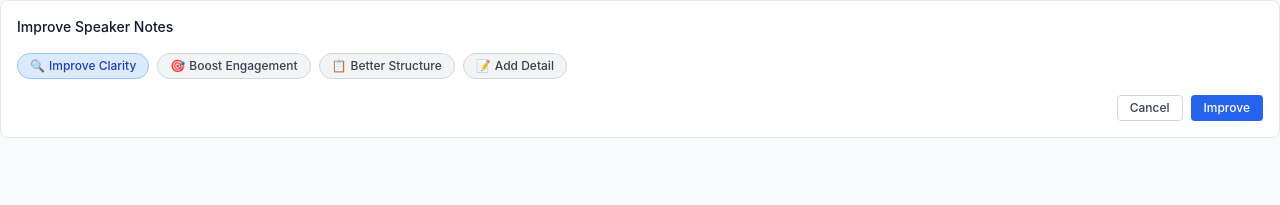
CompactSpeakerNotesImprover › Compact Interface › shows error message in compact format
What coordinates should you click on to do the following:
click the button "Improve"
I would click on:
 (1227, 108)
Its box is [1190, 95, 1263, 121].
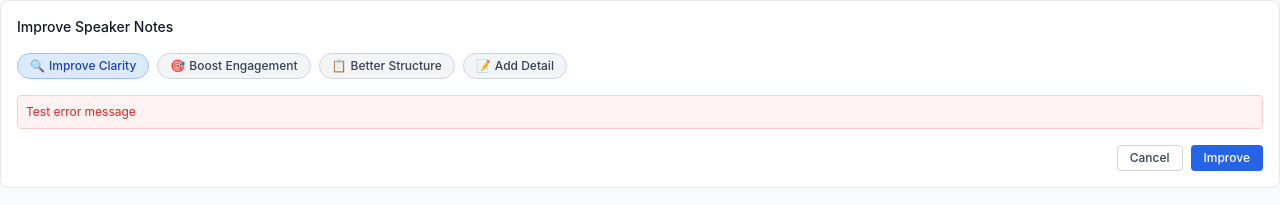
Expected: the text "Test error message" is shown, [17, 95, 1263, 129]
